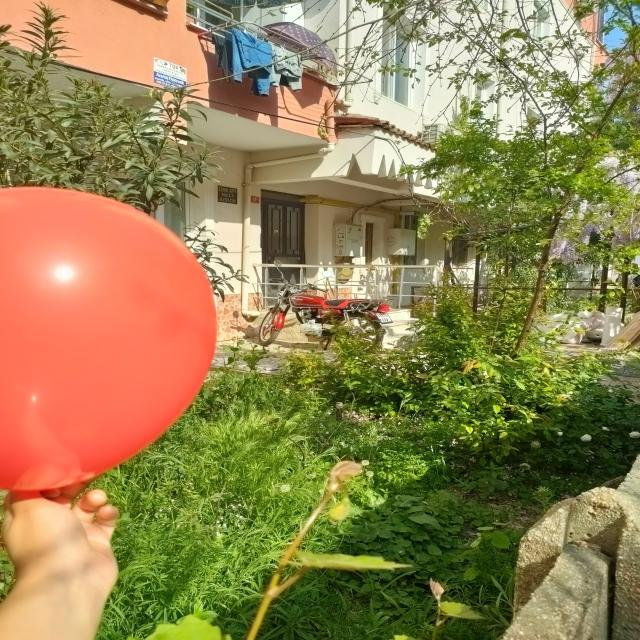red: (3, 188, 216, 492)
